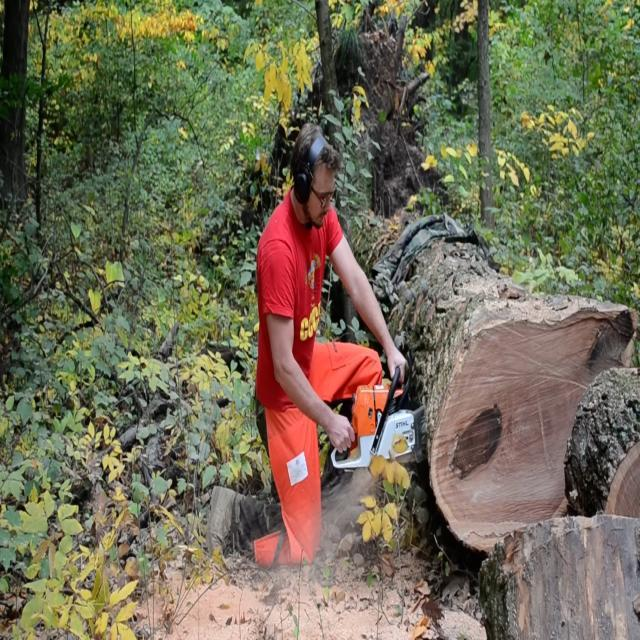Chainsaw: (305, 341, 445, 483)
